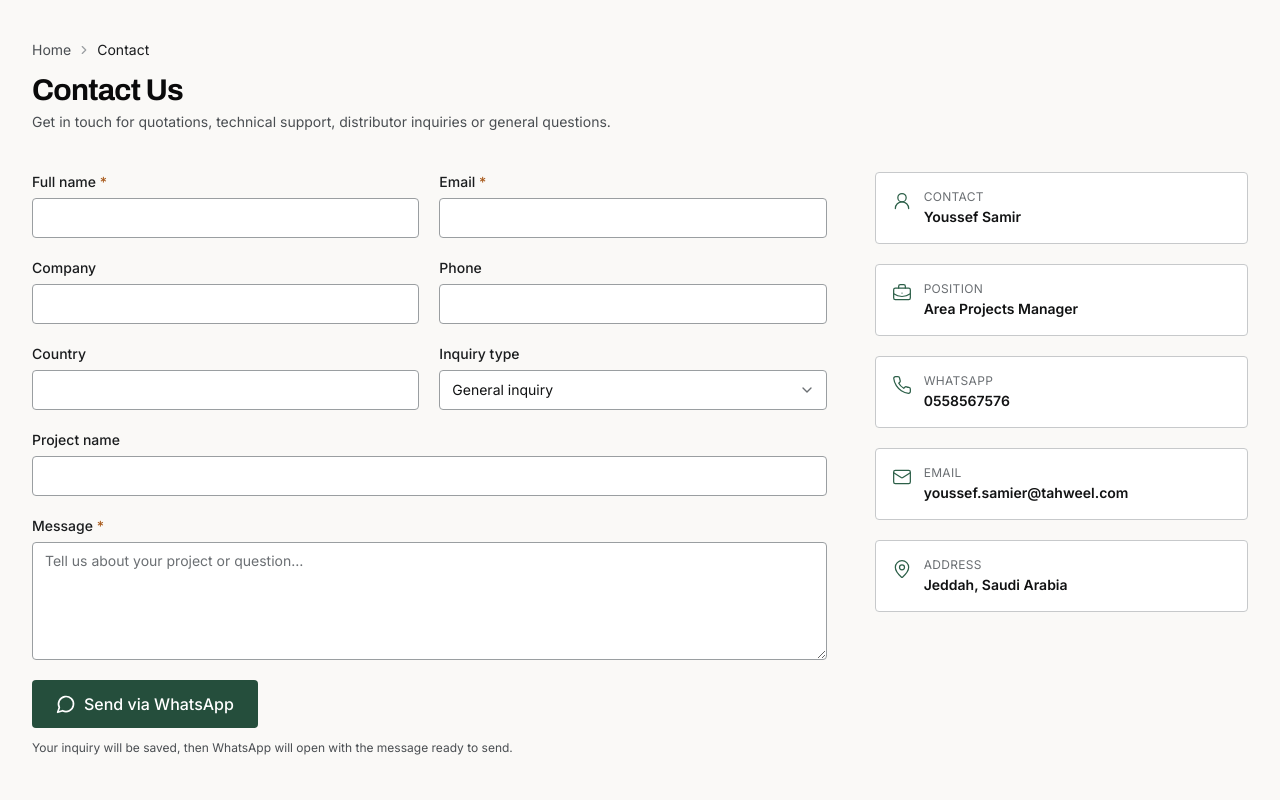
it: ContactPage form validation › shows validation errors when submitting an empty form
The width and height of the screenshot is (1280, 800).
Click the button "Send via WhatsApp": [145, 704] box [32,680,258,728]
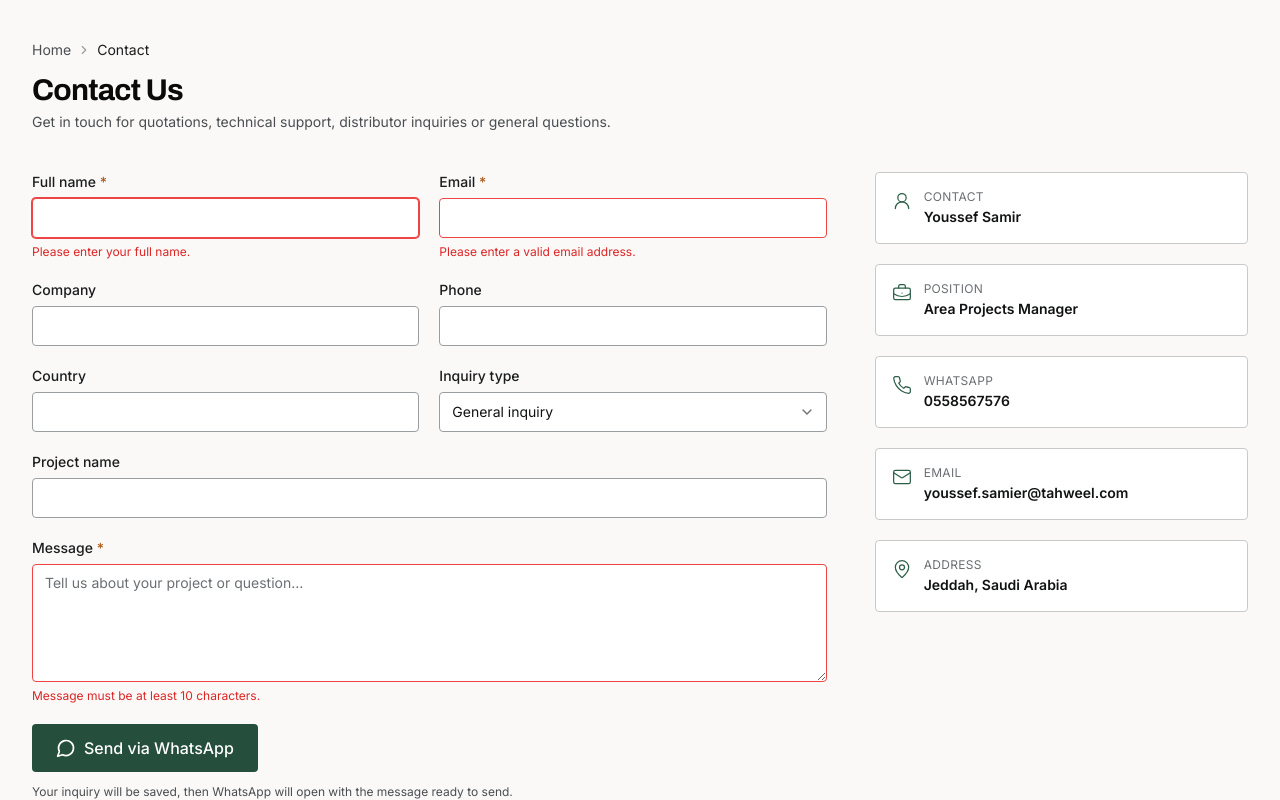
Now the text "Please enter your full name." is shown, box [32,244,190,259]
Now the text "Please enter a valid email address." is shown, box [439,244,636,259]
Now the text "Message must be at least 10 characters." is shown, box [32,688,260,703]
